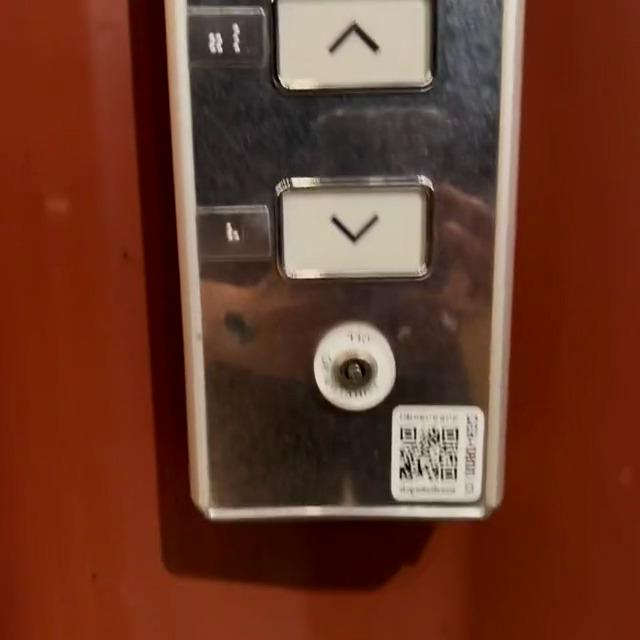button: (274, 176, 431, 283), (264, 0, 439, 88)
